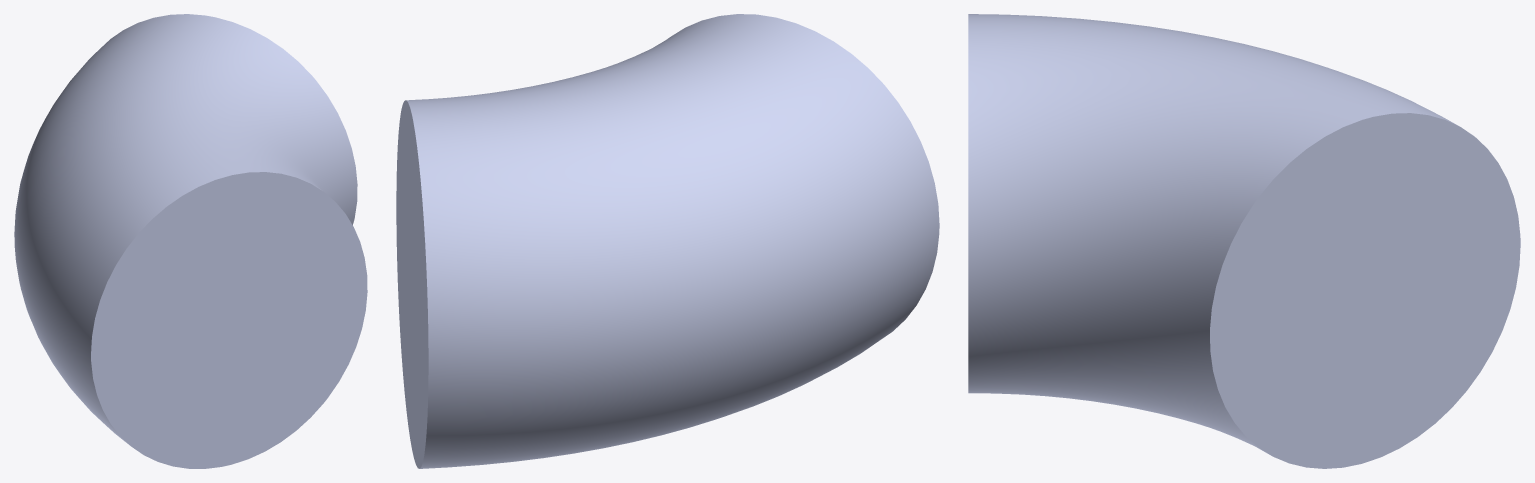
Rendered from jaco_link_4.dae.
3 renders of one model, left to right at view 1: azimuth 30°, elevation 25°; view 2: azimuth 150°, elevation 25°; view 3: azimuth 270°, elevation 25°, orthographic. The views are drawn at different scales.
Parts seen in each view (by area): view 1: Actor0; view 2: Actor0; view 3: Actor0.
Part boxes in pixels (x1=…): Actor0: x1=14, y1=14, x2=367, y2=468; Actor0: x1=396, y1=14, x2=939, y2=468; Actor0: x1=968, y1=14, x2=1520, y2=468.
Size of the model in its own units: 0.0838 by 0.063 by 0.0917.
